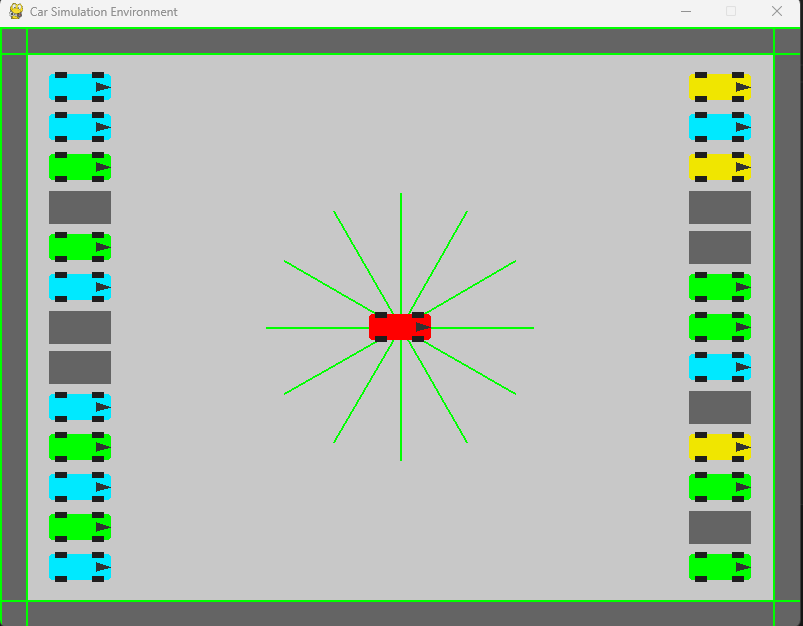ControlledCar: (358, 302, 441, 344)
ParkedCar: (45, 267, 118, 307), (43, 508, 118, 546), (44, 67, 119, 104), (50, 108, 118, 146), (45, 148, 116, 184), (685, 471, 755, 506), (685, 71, 753, 107), (684, 148, 756, 182), (685, 349, 756, 383), (47, 470, 115, 505), (685, 431, 753, 466), (45, 231, 114, 265), (45, 548, 112, 583), (686, 551, 754, 585), (46, 390, 112, 425), (686, 270, 753, 304), (49, 429, 112, 464), (687, 313, 754, 343), (684, 113, 753, 142)
ParkingSpot: (683, 187, 757, 229), (43, 187, 117, 228), (683, 389, 753, 427), (46, 347, 115, 385), (686, 509, 755, 546), (687, 230, 755, 267), (46, 309, 111, 345)
